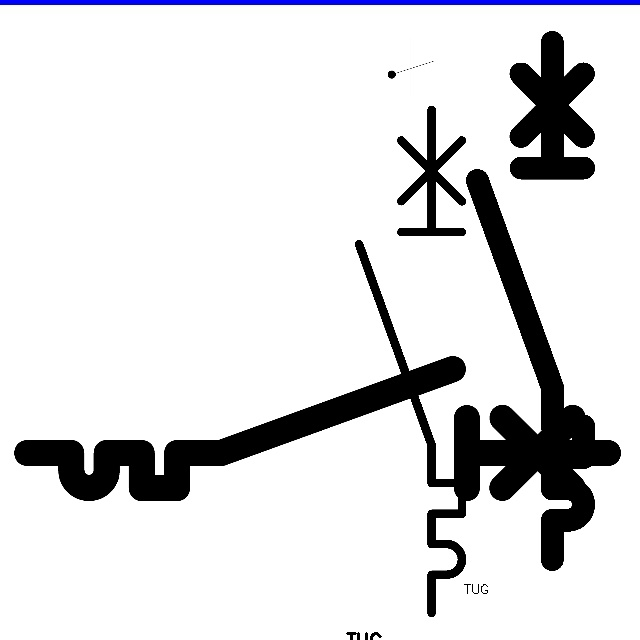interruptor_termomagnetico: (12, 354, 623, 503), (464, 29, 597, 573), (346, 96, 475, 625)
